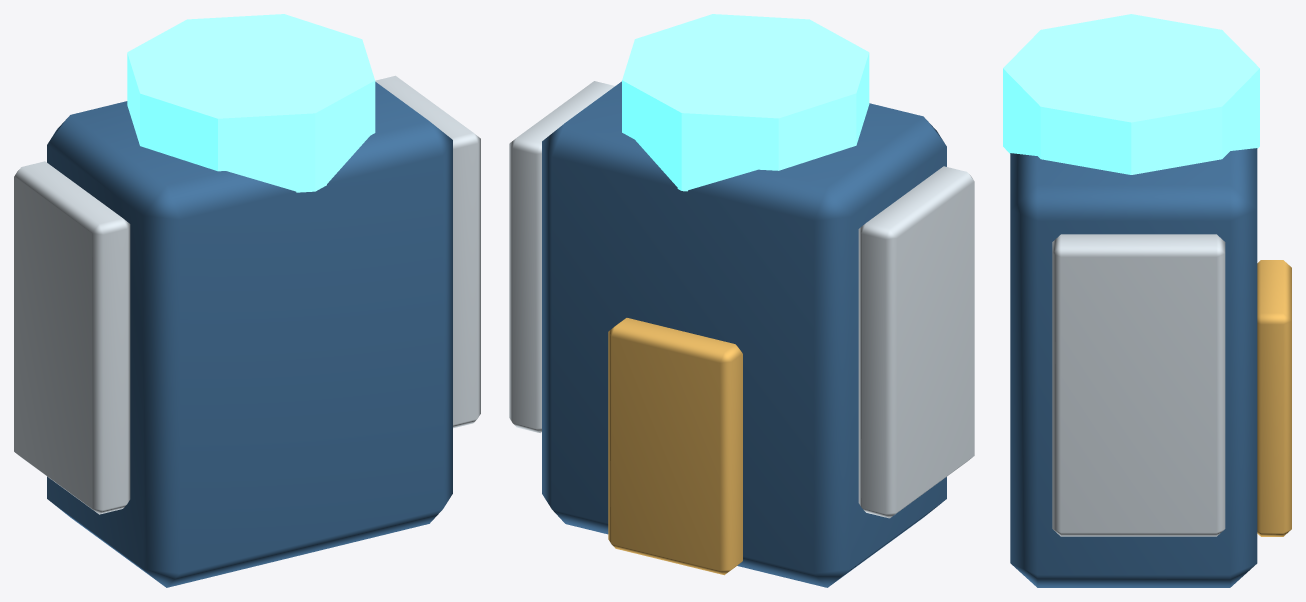
Rendered from boost_core.glb.
The picture shows the model from 3 angles, left to right: view 1: azimuth 30°, elevation 25°; view 2: azimuth 150°, elevation 25°; view 3: azimuth 270°, elevation 25°; orthographic projection.
Visible parts, largest first — view 1: engine | armored housing, engine | side rail left, engine | ion nozzle, engine | side rail right; view 2: engine | armored housing, engine | side rail left, engine | ion nozzle, engine | upper spine, engine | side rail right; view 3: engine | armored housing, engine | side rail right, engine | ion nozzle, engine | upper spine.
Boxes of the visible parts, x1,y1,x2,y2 form: engine | armored housing: (47,82,452,587); engine | side rail left: (14,161,130,514); engine | ion nozzle: (127,14,375,192); engine | side rail right: (375,75,480,428); engine | armored housing: (542,81,946,587); engine | side rail left: (858,166,974,518); engine | ion nozzle: (622,14,869,191); engine | upper spine: (608,318,742,575); engine | side rail right: (509,81,614,432); engine | armored housing: (1010,148,1257,587); engine | side rail right: (1052,234,1225,536); engine | ion nozzle: (1003,14,1259,174); engine | upper spine: (1257,260,1291,536).
Size of the model in its own units: 1.82 by 2.03 by 1.17.
